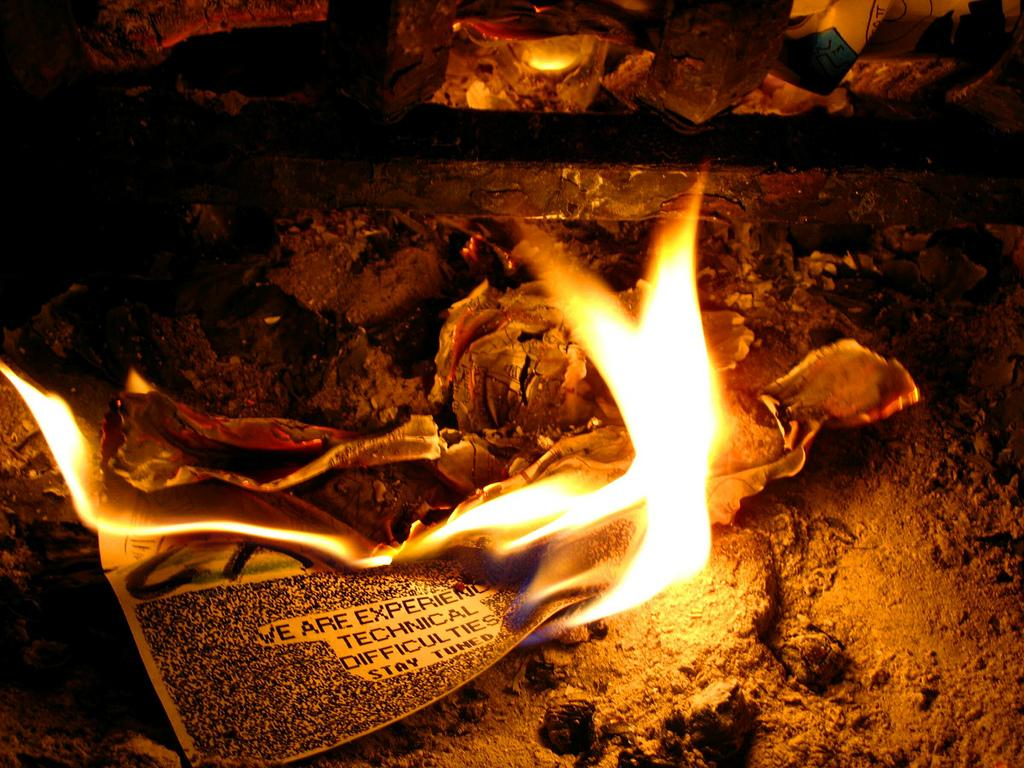fire: (590, 280, 732, 606)
